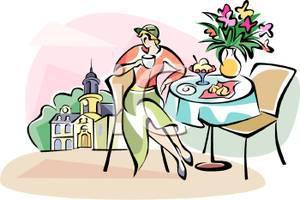chair: (202, 61, 298, 182), (101, 68, 172, 175)
diningtable: (162, 74, 260, 173)
person: (110, 23, 195, 182)
